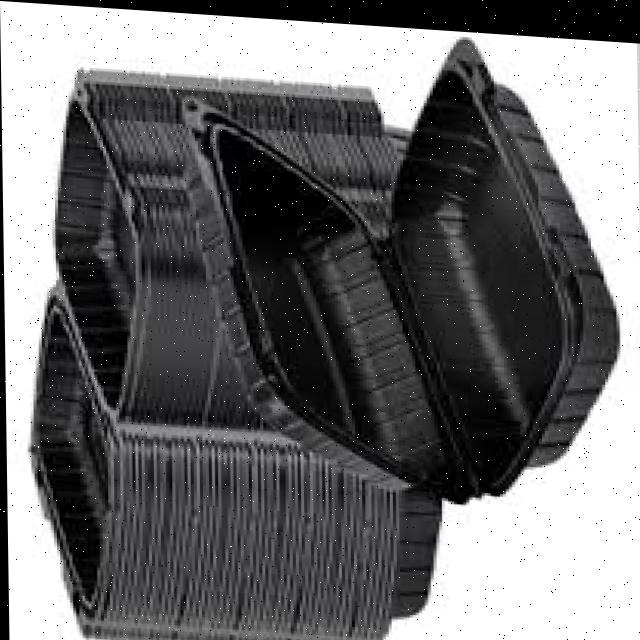disposable: (371, 33, 619, 494)
